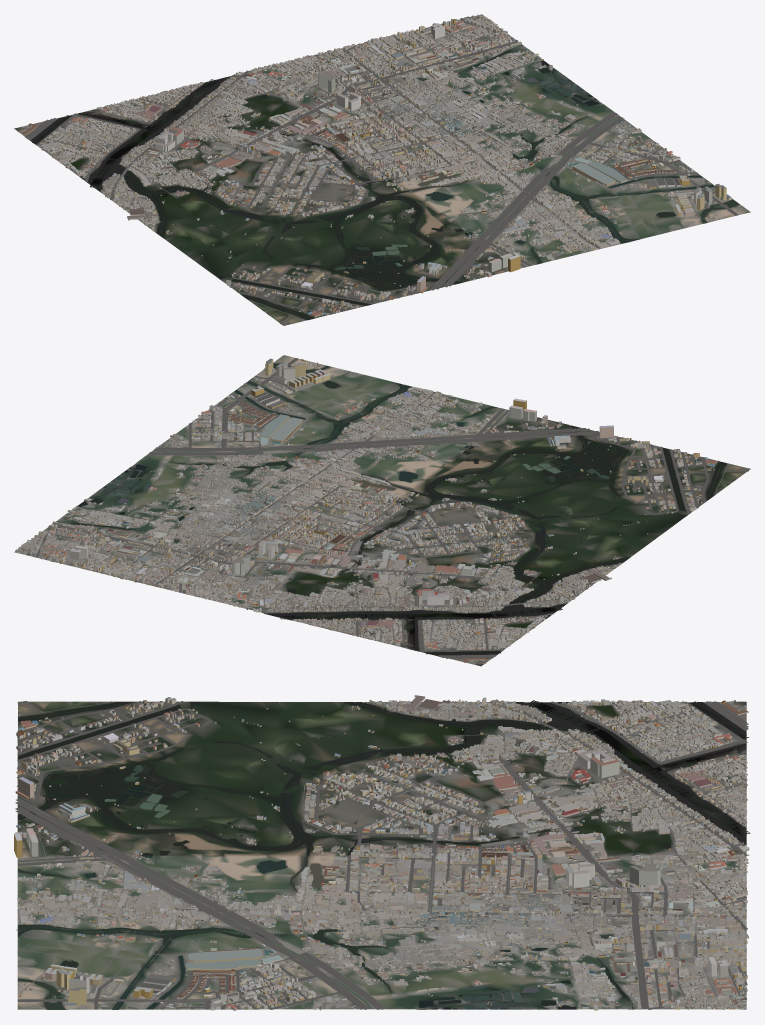
3 renders of one model, top to bottom at view 1: azimuth 30°, elevation 25°; view 2: azimuth 150°, elevation 25°; view 3: azimuth 270°, elevation 25°, orthographic. The views are drawn at different scales.
Parts seen in each view (by area): view 1: ground, buildings, roads, water; view 2: ground, buildings, roads, water; view 3: ground, buildings, roads, water.
Part boxes in pixels (x1,y1,x2,y2): ground: [14, 14, 750, 325]; buildings: [17, 14, 742, 320]; roads: [23, 19, 738, 325]; water: [30, 45, 739, 319]; ground: [14, 355, 750, 666]; buildings: [15, 358, 729, 664]; roads: [35, 358, 749, 660]; water: [56, 363, 725, 655]; ground: [17, 701, 746, 1009]; buildings: [14, 695, 749, 1010]; roads: [15, 701, 749, 1009]; water: [16, 700, 750, 1009].
Bounding box in the file's own units: 2860 × 77.17 × 2832.
